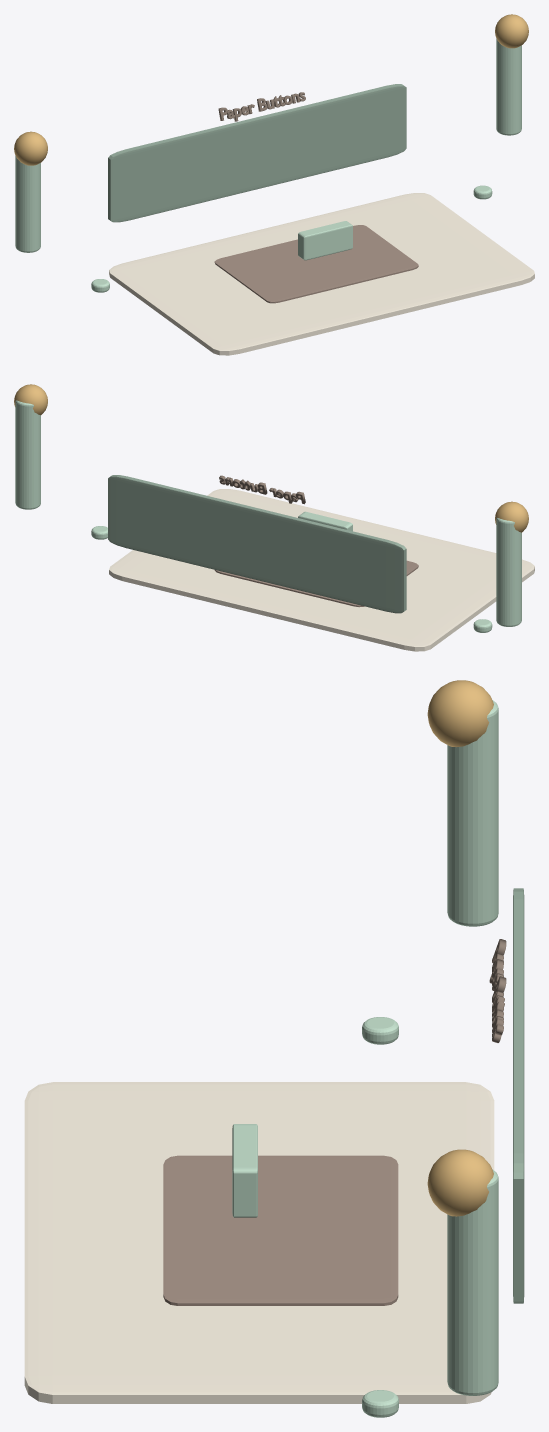
The model's file is 14_ui_elements.glb.
3 views of the same model, one above another, from view 1: azimuth 30°, elevation 25°; view 2: azimuth 150°, elevation 25°; view 3: azimuth 270°, elevation 25° (orthographic). The views are drawn at different scales.
Visible parts, largest first — view 1: PaperFloor-col, BackCard, StageMat, PaperLantern, PaperLantern.001, PaperButton, LanternGlow, LanternGlow.001, TitleLabel; view 2: BackCard, PaperFloor-col, PaperLantern.001, PaperLantern, TitleLabel, LanternGlow, LanternGlow.001, StageMat, PaperButton; view 3: PaperFloor-col, StageMat, PaperLantern, PaperLantern.001, BackCard, LanternGlow.001, LanternGlow, PaperButton, TitleLabel, CardConfetti, CardConfetti.001.
Boxes of the visible parts, left/top/right/bottom form: PaperFloor-col: left=109, top=193, right=534, bottom=355; BackCard: left=108, top=84, right=406, bottom=222; StageMat: left=214, top=225, right=418, bottom=303; PaperLantern: left=15, top=155, right=40, bottom=252; PaperLantern.001: left=496, top=38, right=521, bottom=135; PaperButton: left=298, top=221, right=352, bottom=260; LanternGlow: left=14, top=131, right=47, bottom=165; LanternGlow.001: left=495, top=14, right=528, bottom=48; TitleLabel: left=218, top=92, right=305, bottom=121; BackCard: left=108, top=475, right=406, bottom=613; PaperFloor-col: left=109, top=489, right=534, bottom=651; PaperLantern.001: left=15, top=400, right=40, bottom=509; PaperLantern: left=496, top=518, right=521, bottom=626; TitleLabel: left=219, top=475, right=305, bottom=504; LanternGlow: left=495, top=501, right=528, bottom=532; LanternGlow.001: left=14, top=384, right=47, bottom=415; StageMat: left=214, top=560, right=418, bottom=607; PaperButton: left=298, top=511, right=352, bottom=531; PaperFloor-col: left=24, top=1082, right=494, bottom=1403; StageMat: left=163, top=1155, right=398, bottom=1305; PaperLantern: left=447, top=700, right=498, bottom=926; PaperLantern.001: left=447, top=1169, right=498, bottom=1395; BackCard: left=513, top=888, right=524, bottom=1303; LanternGlow.001: left=427, top=1149, right=493, bottom=1216; LanternGlow: left=427, top=680, right=493, bottom=747; PaperButton: left=232, top=1124, right=257, bottom=1217; TitleLabel: left=489, top=939, right=506, bottom=1042; CardConfetti: left=362, top=1017, right=398, bottom=1044; CardConfetti.001: left=362, top=1390, right=398, bottom=1417.
Size of the model in its own units: 8.28 by 2.56 by 3.51.
